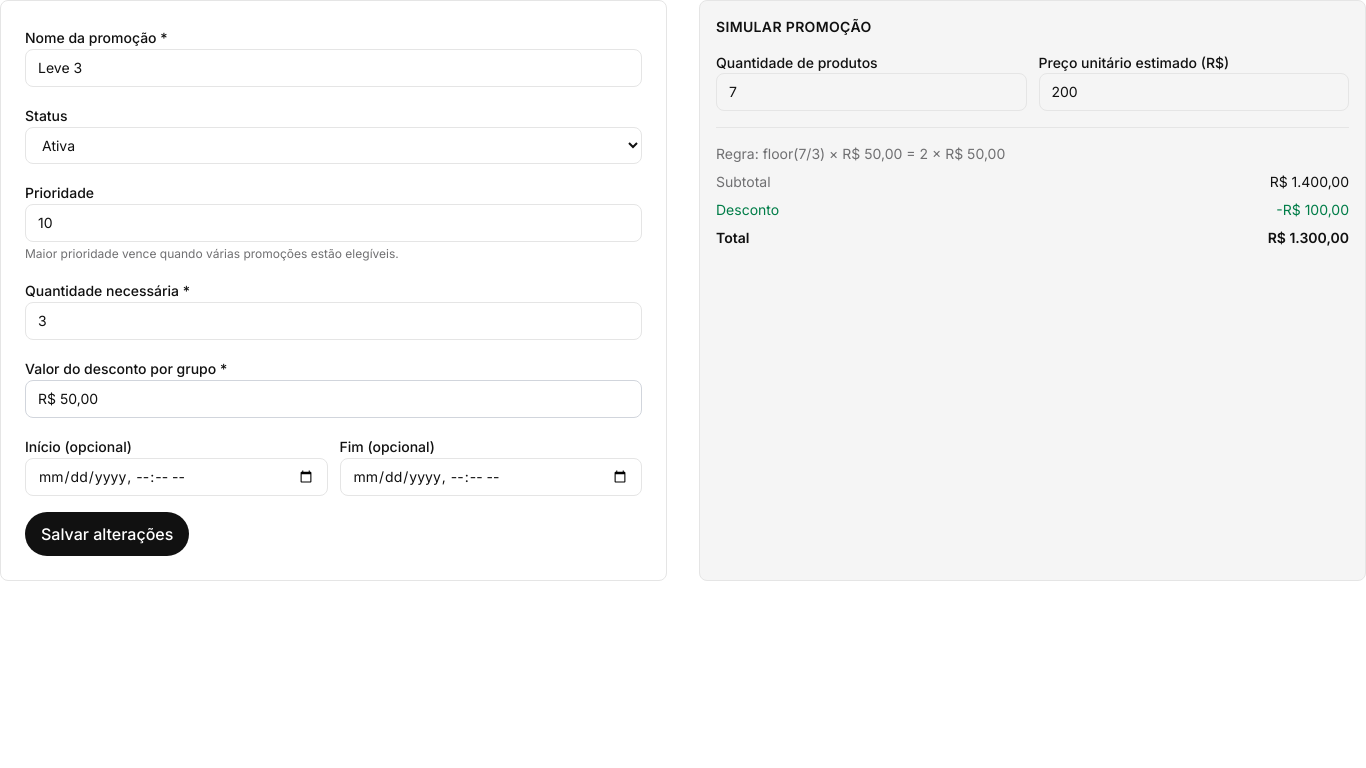
Test case: PromotionForm › mostra sucesso após salvar edição
Click the button "Salvar alterações": (107, 534) [25,512,189,556]
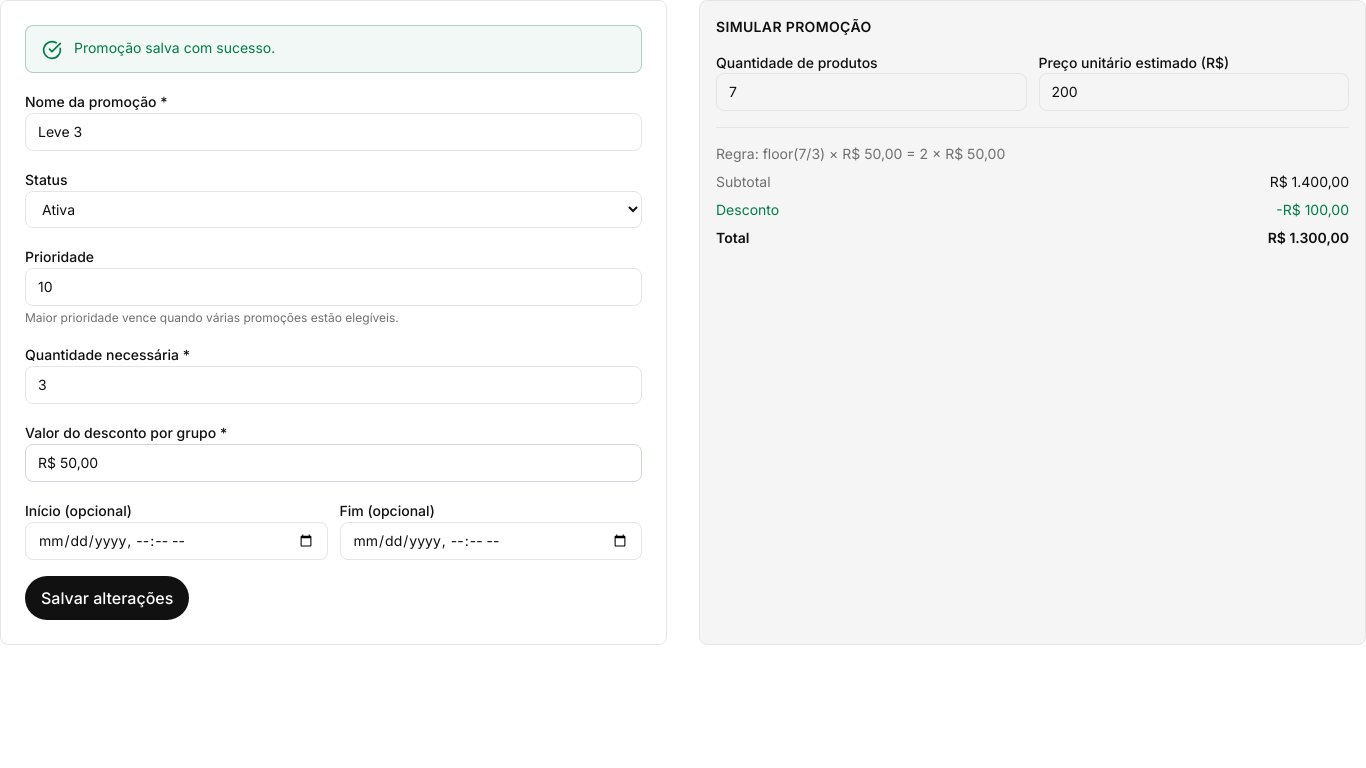
Expected: the text "Promoção salva com sucesso." is shown, [74,39,275,56]
